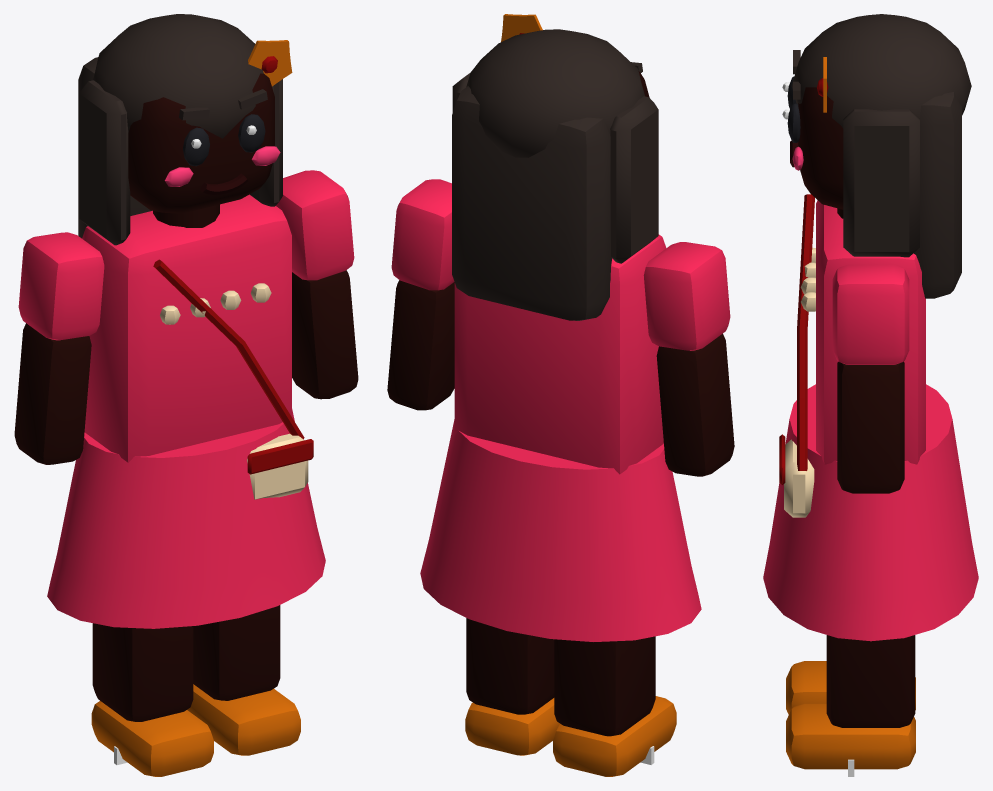
Rendered from CustomerB.obj.
3 views of the same model, side by side, from view 1: azimuth 30°, elevation 25°; view 2: azimuth 150°, elevation 25°; view 3: azimuth 270°, elevation 25° (orthographic).
Visible parts, largest first — view 1: CustomerB; view 2: CustomerB; view 3: CustomerB.
Part boxes in pixels (bbox=[...]): CustomerB: bbox=[14, 14, 358, 776]; CustomerB: bbox=[387, 14, 734, 776]; CustomerB: bbox=[763, 14, 978, 776].
Bounding box in the file's own units: 2.45 × 5.15 × 1.41.
